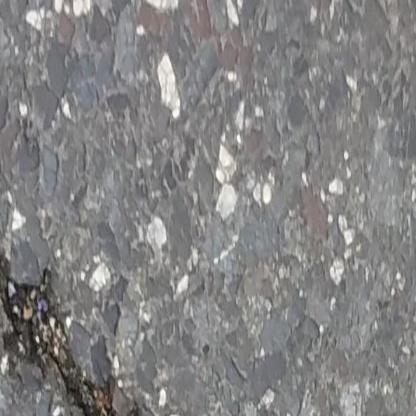Cracks: (0, 228, 194, 416)
